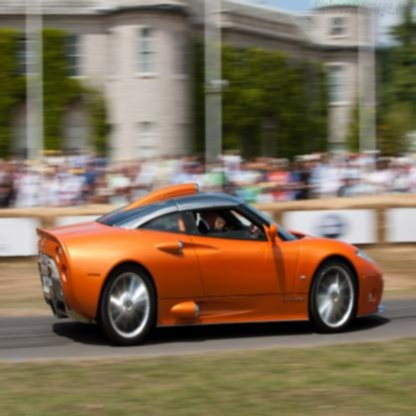Vehicle: (32, 183, 386, 344)
